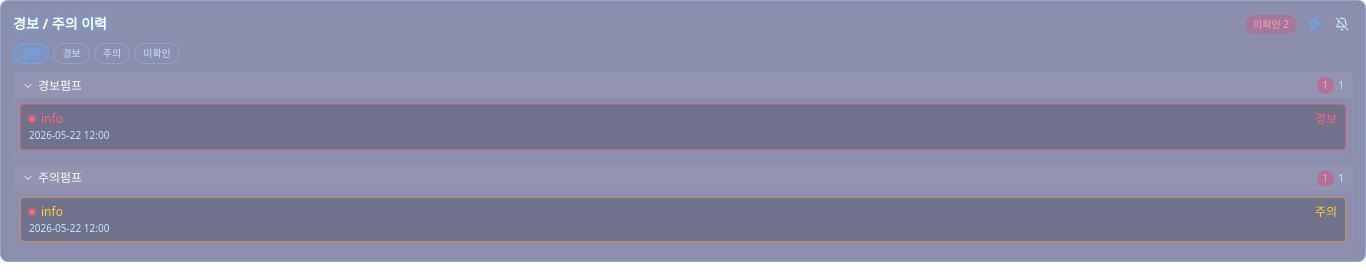
Test: AlertSidebar › 필터 "경보" 클릭 시 경보 항목만 노출
Click the button "경보" at (72, 54), box [53,43,90,64]
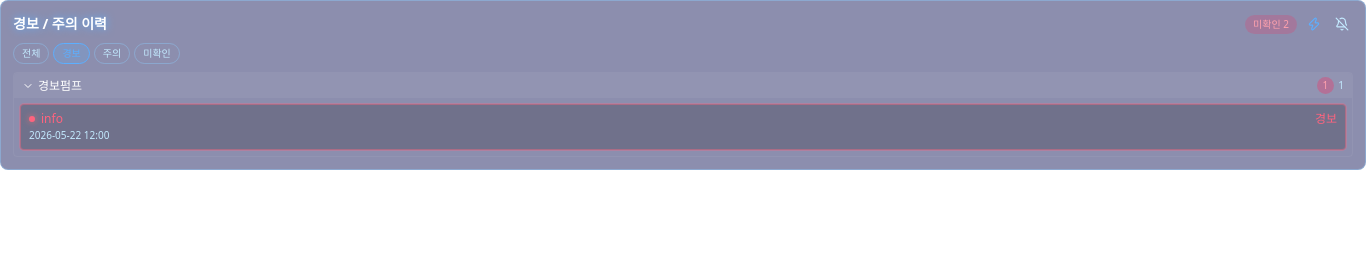
Expected: the text "경보펌프" is shown, [38,78,82,94]
Expected: the button "주의펌프" is gone
